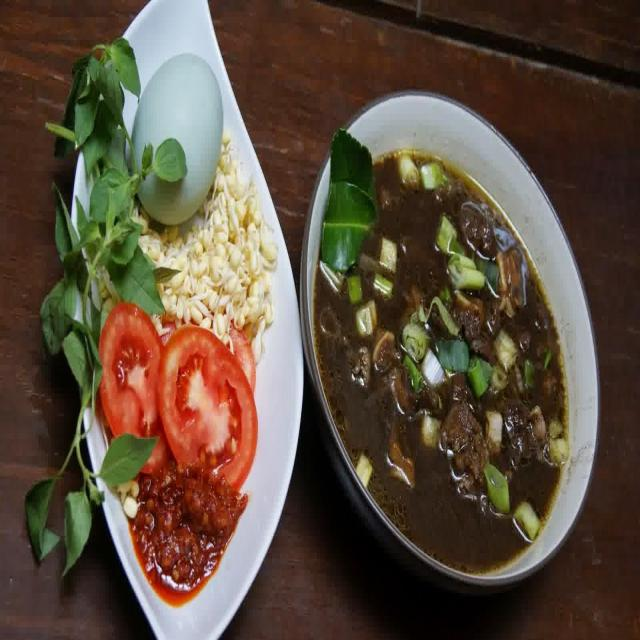Rawon: (307, 127, 573, 595)
